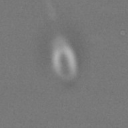normal: (29, 1, 67, 45)
